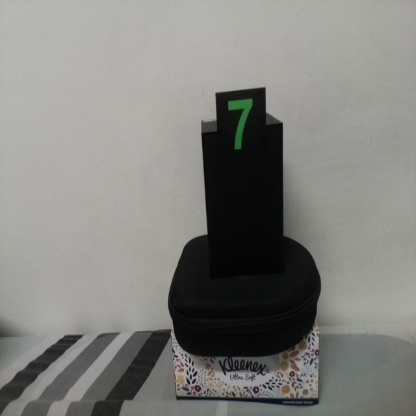id_7: (215, 92, 266, 172)
